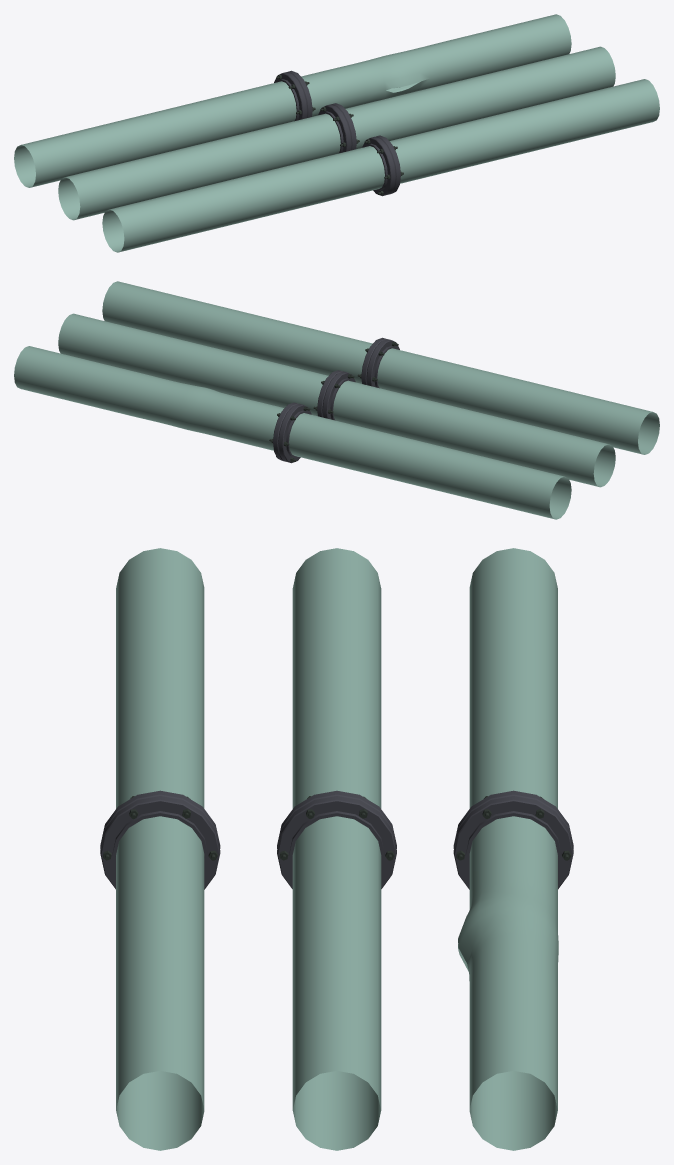
Rendered from PipeComplexLarge_A2_02.fbx.
3 renders of one model, top to bottom at view 1: azimuth 30°, elevation 25°; view 2: azimuth 150°, elevation 25°; view 3: azimuth 270°, elevation 25°, orthographic. The views are drawn at different scales.
Parts seen in each view (by area): view 1: PipeComplexLarge_A2_02.001; view 2: PipeComplexLarge_A2_02.001; view 3: PipeComplexLarge_A2_02.001.
Boxes of the visible parts, x1,y1,x2,y2 form: PipeComplexLarge_A2_02.001: [14, 14, 659, 252]; PipeComplexLarge_A2_02.001: [14, 281, 659, 519]; PipeComplexLarge_A2_02.001: [100, 548, 573, 1150].
Bounding box in the file's own units: 2.8 × 0.2712 × 1.07.
